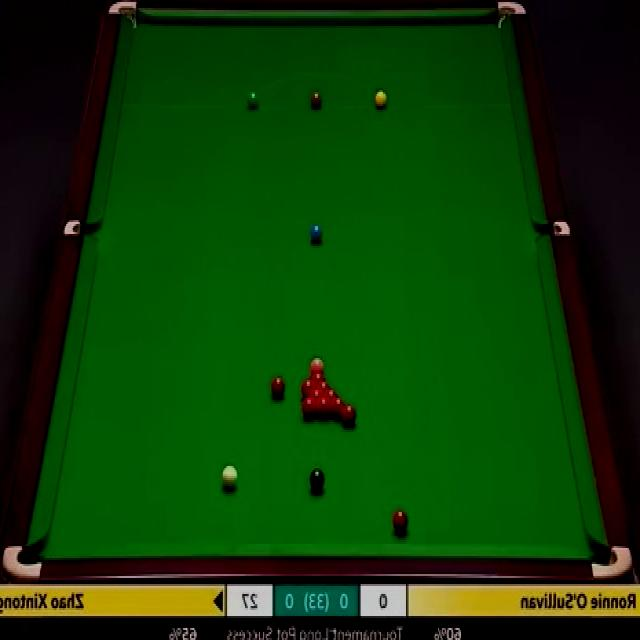black-ball: (308, 468, 326, 490)
blue-ball: (310, 223, 323, 244)
brown-ball: (310, 88, 323, 113)
green-ball: (247, 89, 260, 110)
pink-ball: (307, 356, 322, 370)
red-ball: (270, 375, 286, 402), (392, 510, 409, 532), (342, 404, 356, 428), (330, 397, 344, 419), (314, 397, 328, 418), (301, 379, 316, 398), (304, 397, 314, 419), (308, 372, 328, 383), (322, 390, 342, 399), (316, 379, 331, 391)
white-ball: (222, 462, 238, 489)
yellow-ball: (375, 89, 389, 110)
